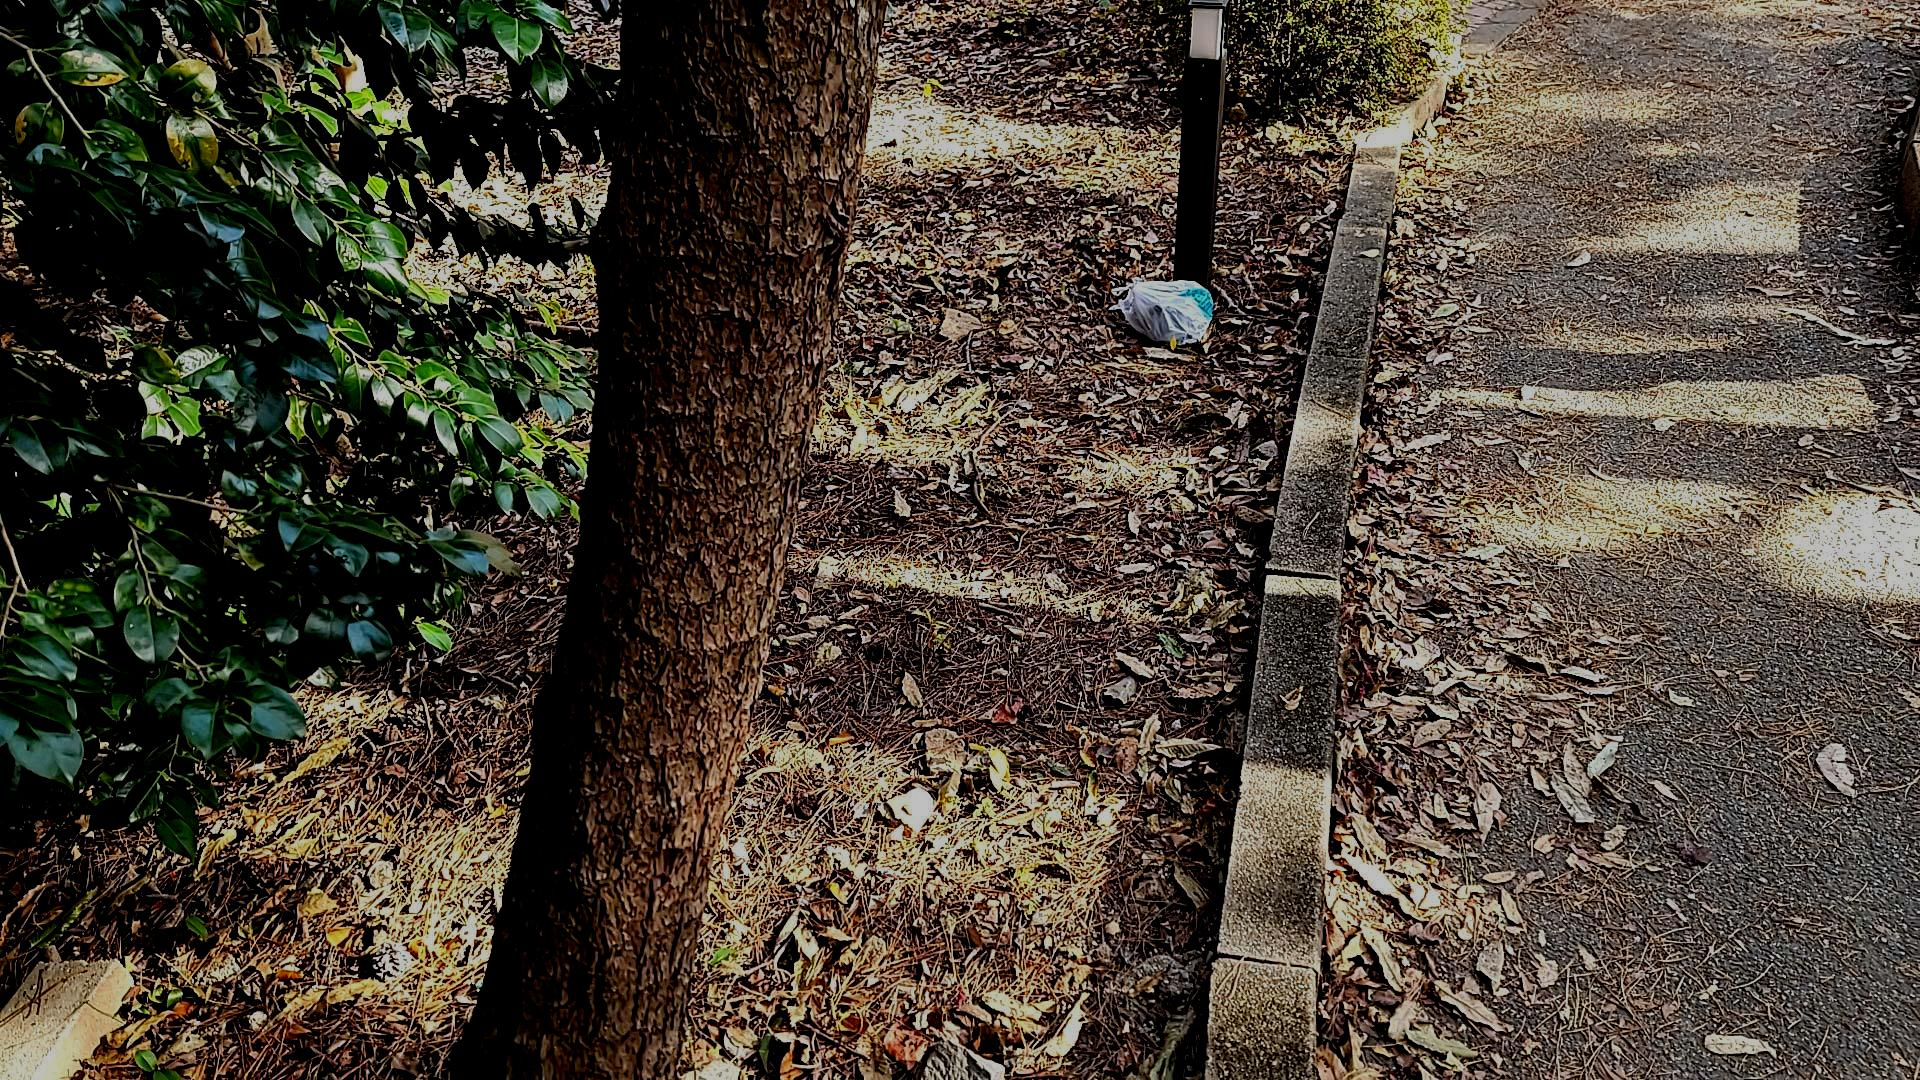white_bag: (1106, 272, 1218, 352)
